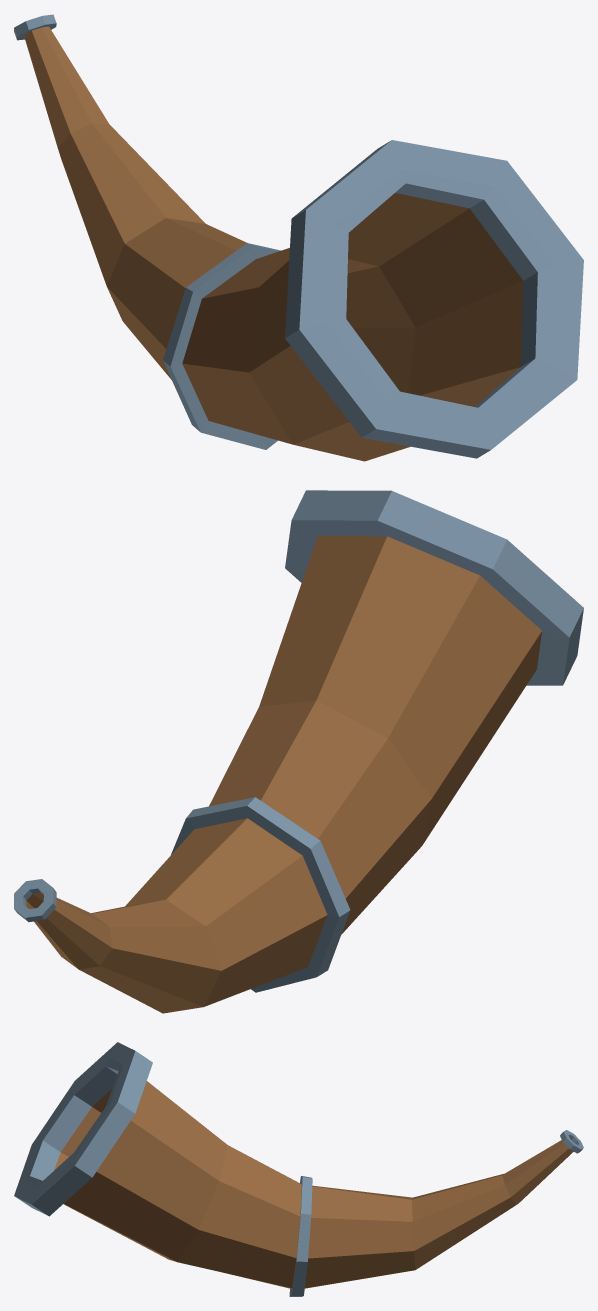
The model's file is horn.fbx.
3 views of the same model, one above another, from view 1: azimuth 30°, elevation 25°; view 2: azimuth 150°, elevation 25°; view 3: azimuth 270°, elevation 25° (orthographic). The views are drawn at different scales.
Visible parts, largest first — view 1: Cone; view 2: Cone; view 3: Cone.
Part boxes in pixels (x1=…): Cone: x1=14, y1=14, x2=583, y2=461; Cone: x1=14, y1=490, x2=583, y2=1013; Cone: x1=14, y1=1042, x2=583, y2=1296.
Size of the model in its own units: 315 by 150 by 111.
